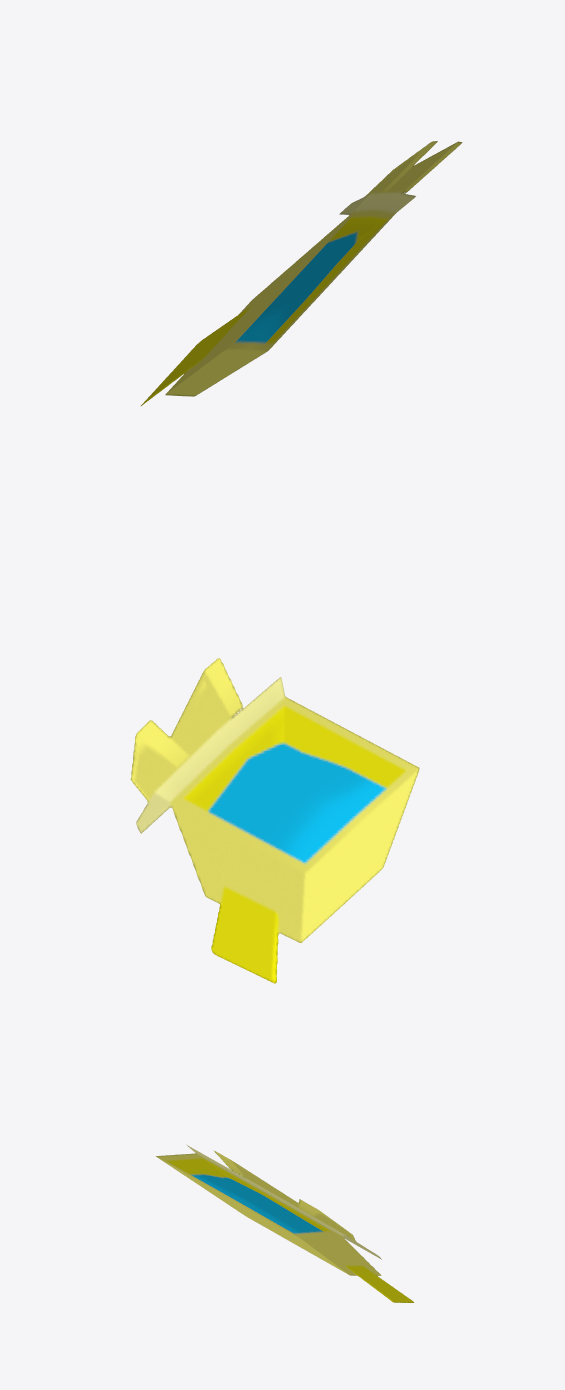
File: SlowTurret_spriteplane_TEST.FBX
3 views of the same model, one above another, from view 1: azimuth 30°, elevation 25°; view 2: azimuth 150°, elevation 25°; view 3: azimuth 270°, elevation 25° (orthographic). The views are drawn at different scales.
Parts seen in each view (by area): view 1: Slow_Turret_mesh; view 2: Slow_Turret_mesh; view 3: Slow_Turret_mesh.
Boxes of the visible parts, bbox=[...] form: Slow_Turret_mesh: bbox=[141, 141, 462, 405]; Slow_Turret_mesh: bbox=[130, 658, 419, 983]; Slow_Turret_mesh: bbox=[156, 1144, 413, 1302].
Size of the model in its own units: 183 by 95.38 by 183.
1 material, 1 textured.
